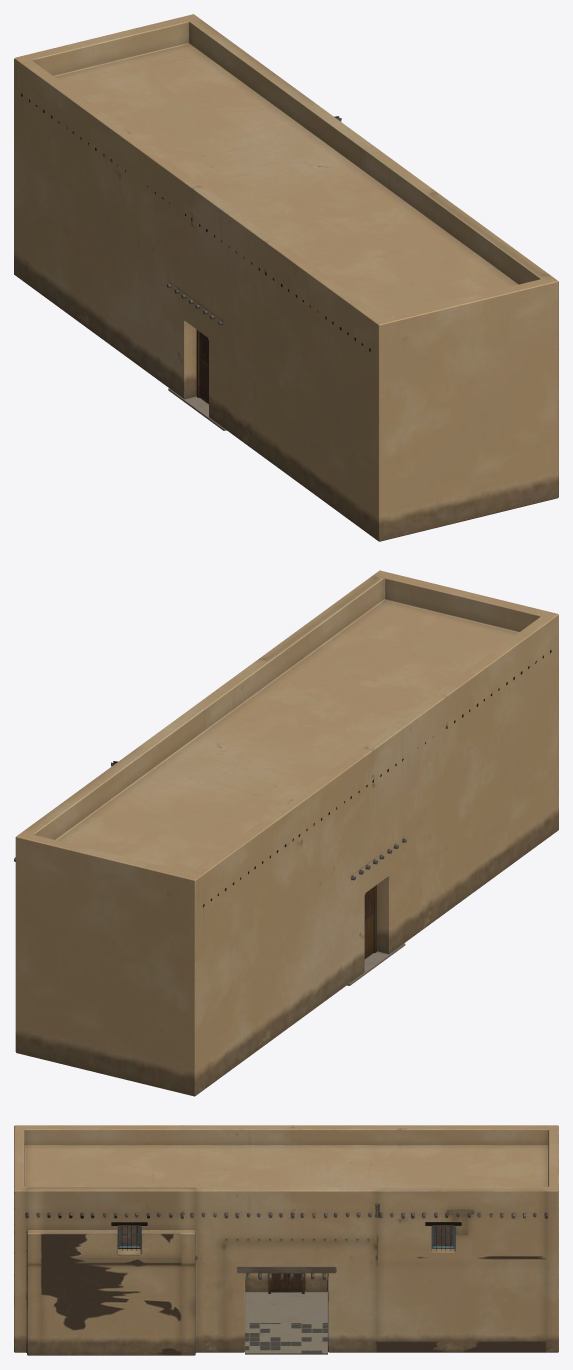
Rendered from souq_endW_m.glb.
3 views of the same model, one above another, from view 1: azimuth 30°, elevation 25°; view 2: azimuth 150°, elevation 25°; view 3: azimuth 270°, elevation 25° (orthographic). The views are drawn at different scales.
Parts seen in each view (by area): view 1: GX_endW_LOD0; view 2: GX_endW_LOD0; view 3: GX_endW_LOD0.
Part boxes in pixels (x1,y1,x2,y2): GX_endW_LOD0: (14,14,558,541); GX_endW_LOD0: (14,570,558,1096); GX_endW_LOD0: (14,1125,558,1355).
Size of what is drawn, in the model's own units: 6.91 by 6.96 by 21.
3 materials, 1 textured.
